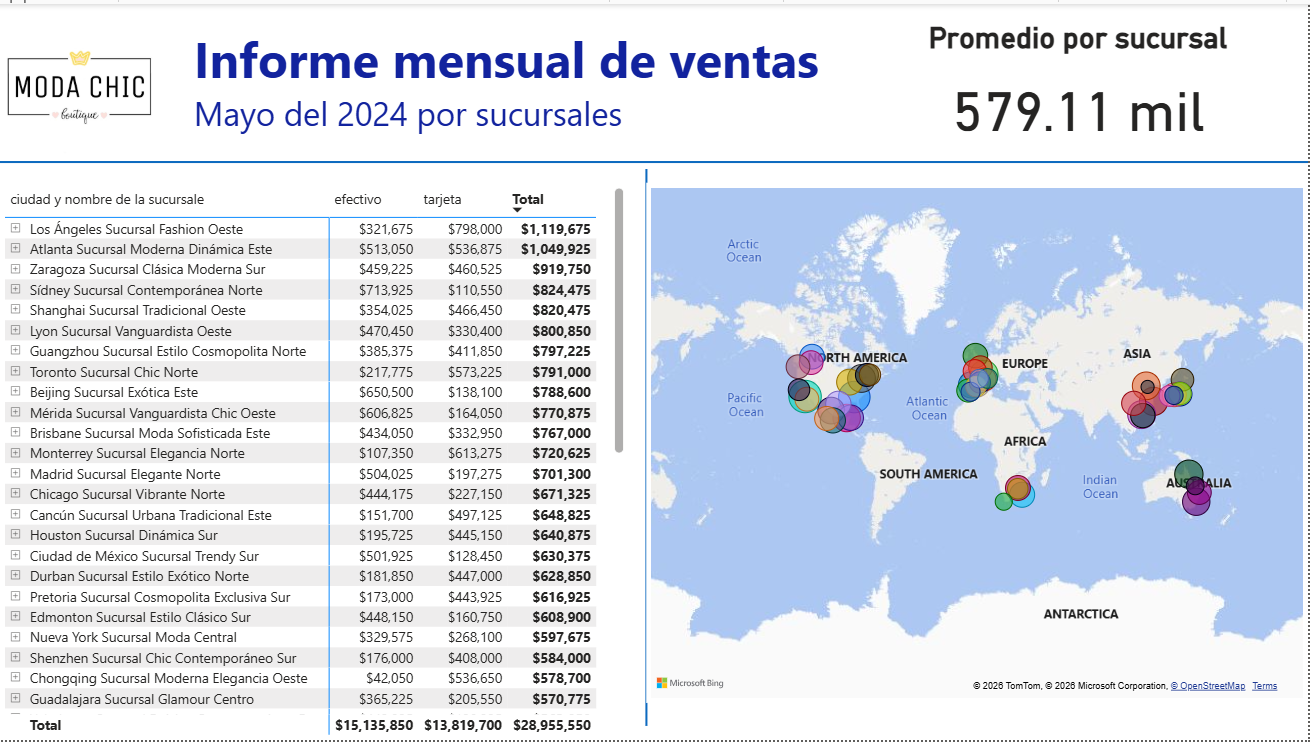

What the dashboard file says about the page in this screenshot:
{"tool":"powerbi","page":{"name":"Informe por sucursales","canvas":[1280,720],"ordinal":1},"visuals":[{"type":"shape","box":[0,148.4,1280,13.3],"z":0},{"type":"shape","box":[625,161.2,15,545],"z":1000},{"type":"image","box":[0,0,155.6,161.7],"z":2000},{"type":"textbox","box":[184.6,15.7,634.6,132.7],"z":3000},{"type":"card","title":"Promedio por sucursal","fields":{"Values":["ventas2.promedio por sucursal"]},"box":[828.8,15.7,451.2,132.7],"z":4000},{"type":"pivotTable","fields":{"Values":["Sum(ventas2.total venta)"],"Columns":["ventas2.metodo de pago"],"Rows":["sucursales.ciudad y nombre de la sucursale","productos.Categoría"]},"box":[0,175,615,545],"z":5000},{"type":"map","fields":{"Y":["sucursales.Latitude"],"X":["sucursales.Longitude"],"Size":["Sum(ventas2.total venta)"],"Series":["sucursales.ciudad y nombre de la sucursale"]},"box":[632.5,175,647.5,508.8],"z":6000}]}

Visuals, with their boxes in screenshot pixels (x1, y1, x2, y2), scaled from the page's 1280x720 canvas onto the 1310x742 screenshot:
shape: 0 153 1309 167
shape: 640 166 655 728
image: 0 0 159 167
textbox: 189 16 838 153
"Promedio por sucursal" card: 848 16 1309 153
pivotTable - Sum(ventas2.total venta) x ventas2.metodo de pago: 0 180 629 741
map - sucursales.Latitude x sucursales.Longitude: 647 180 1309 705
